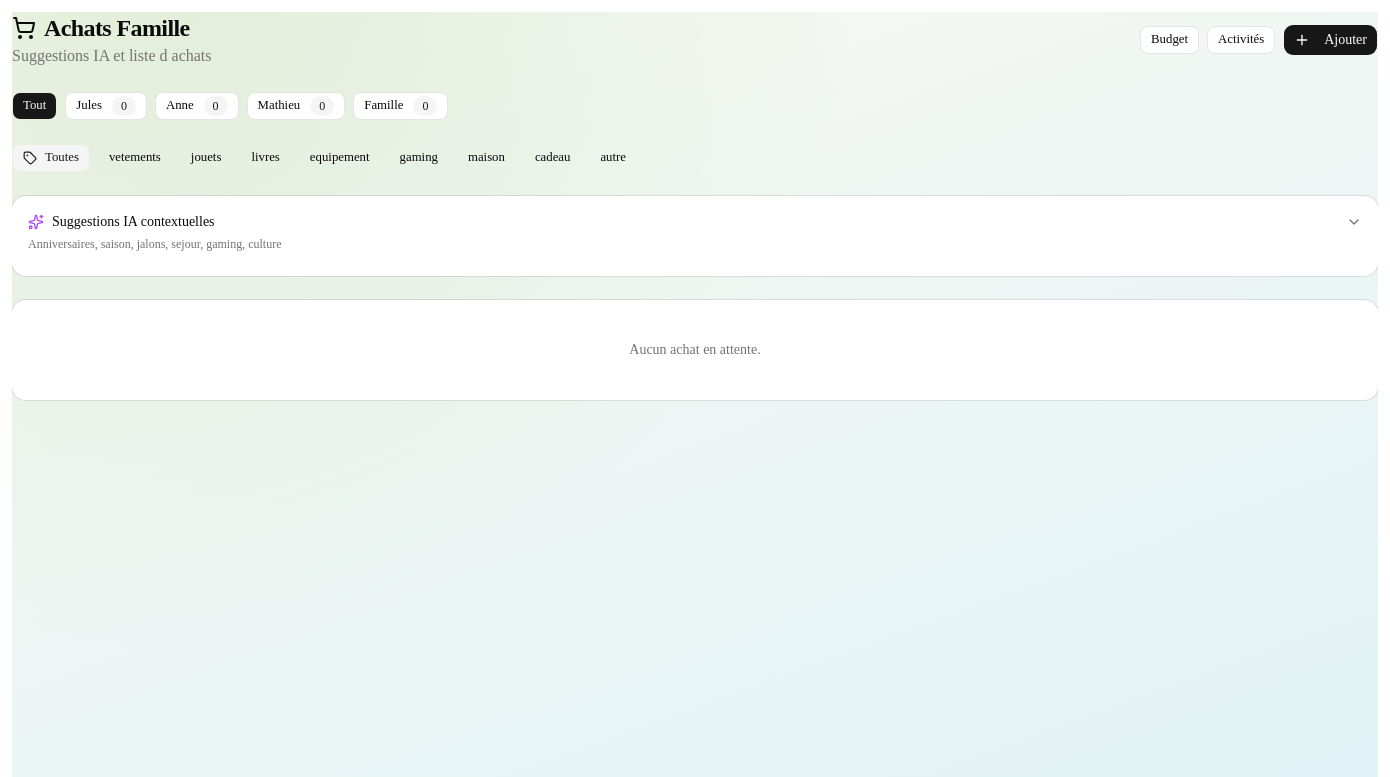
PageAchats › affiche les suggestions IA après génération
Click the text "Suggestions IA contextuelles" at (133, 222), box x1=28 y1=212 x2=1362 y2=232
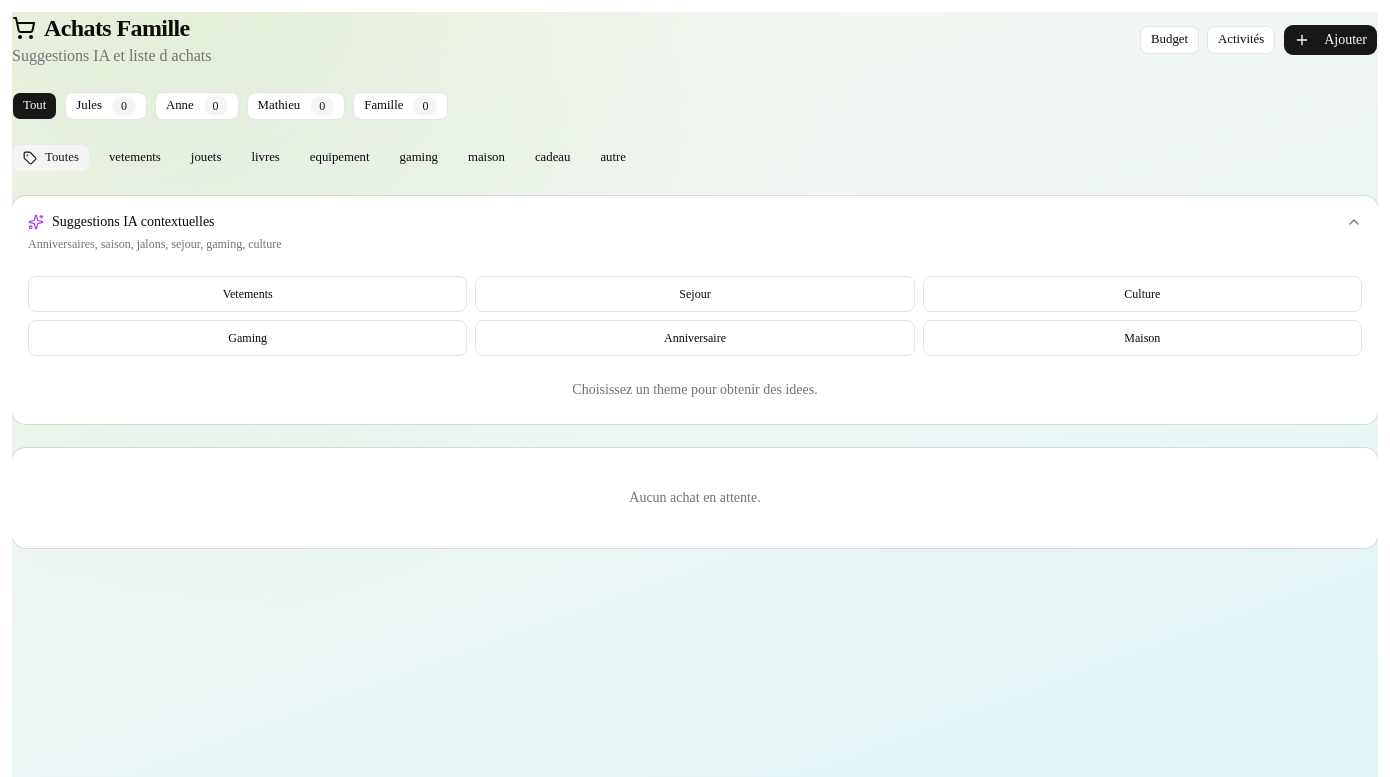
Click the button "Anniversaire" at (695, 338), box x1=475 y1=320 x2=915 y2=356
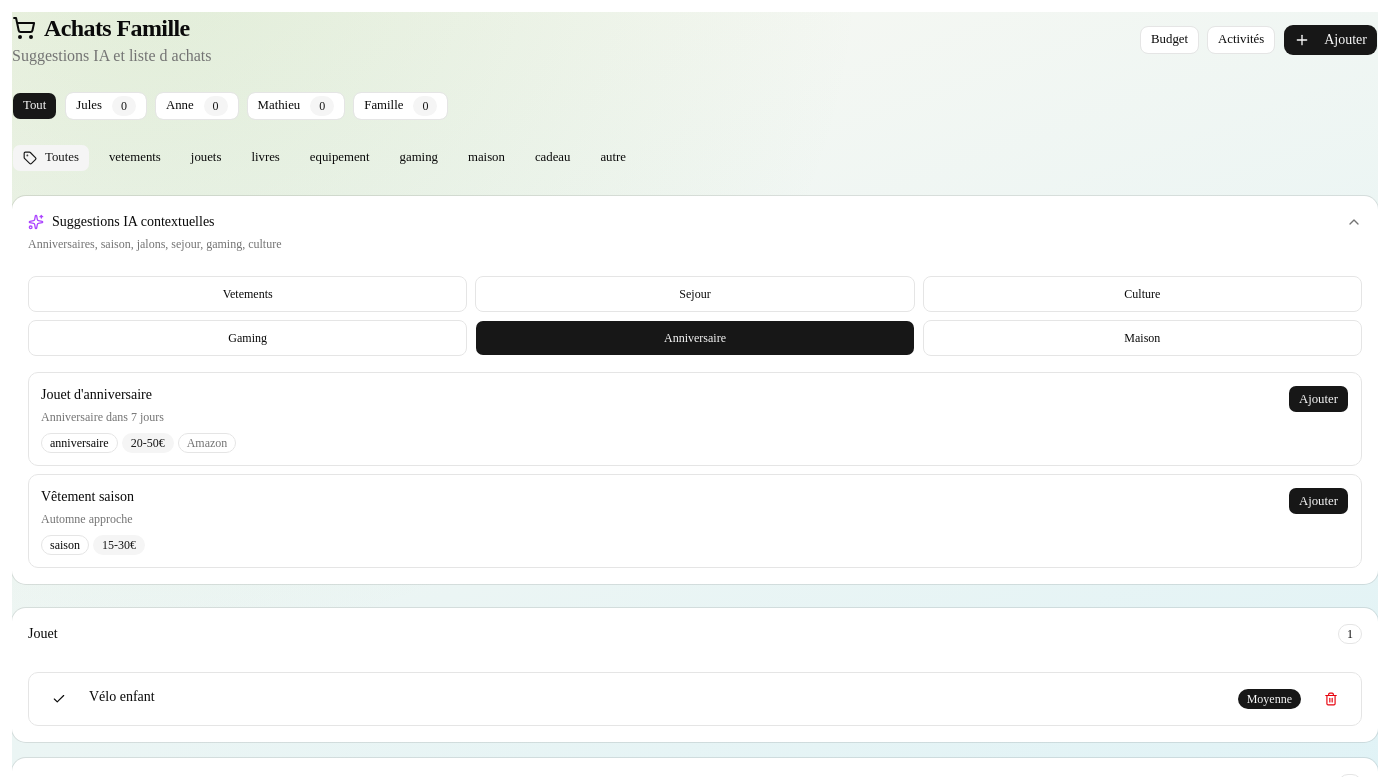
Result: the text "Jouet d'anniversaire" is shown at x1=41 y1=385 x2=152 y2=405
Result: the text "Vêtement saison" is shown at x1=41 y1=487 x2=134 y2=507
